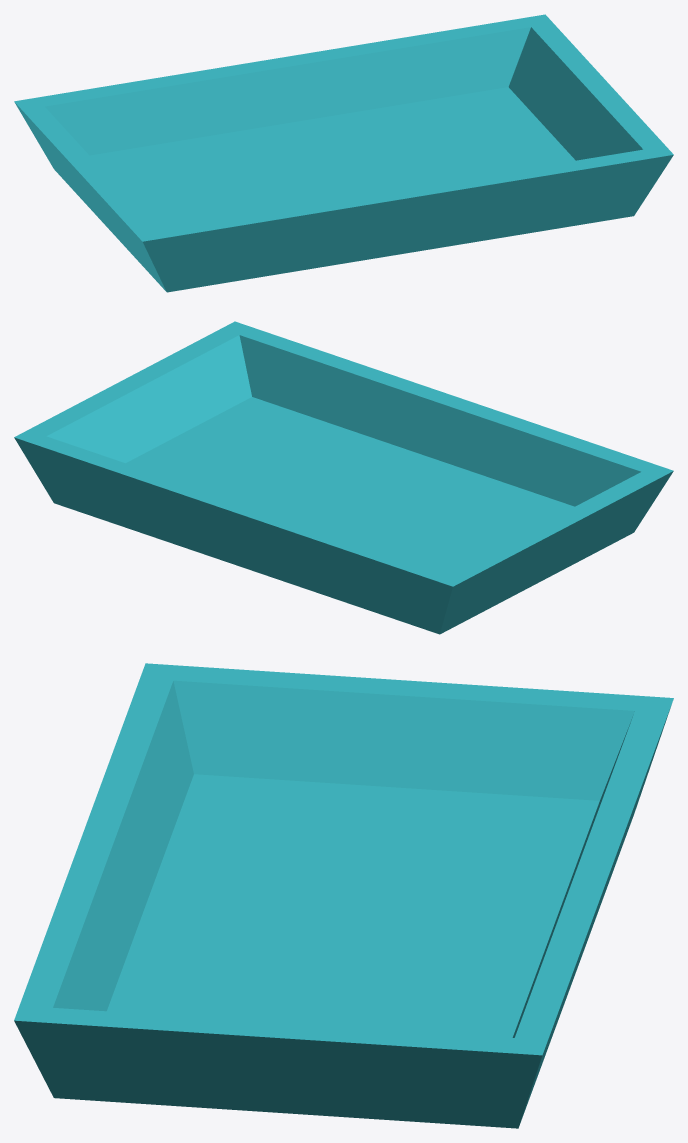
The model's file is BandejaChica.fbx.
The picture shows the model from 3 angles, top to bottom: view 1: azimuth 30°, elevation 25°; view 2: azimuth 150°, elevation 25°; view 3: azimuth 270°, elevation 25°; orthographic projection. The views are drawn at different scales.
Parts seen in each view (by area): view 1: BandejaChica; view 2: BandejaChica; view 3: BandejaChica.
Boxes of the visible parts, left/top/right/bottom form: BandejaChica: left=14, top=14, right=673, bottom=292; BandejaChica: left=14, top=321, right=673, bottom=634; BandejaChica: left=14, top=663, right=673, bottom=1128.
Size of the model in its own units: 43.37 by 5 by 30.85.
